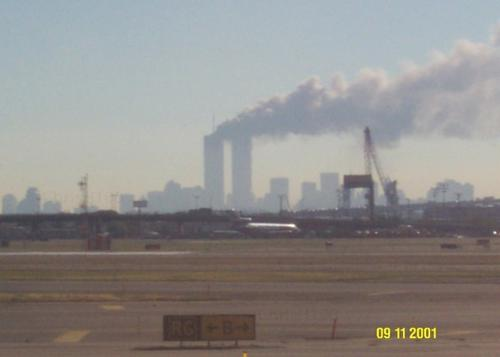smoke: (233, 50, 500, 134)
